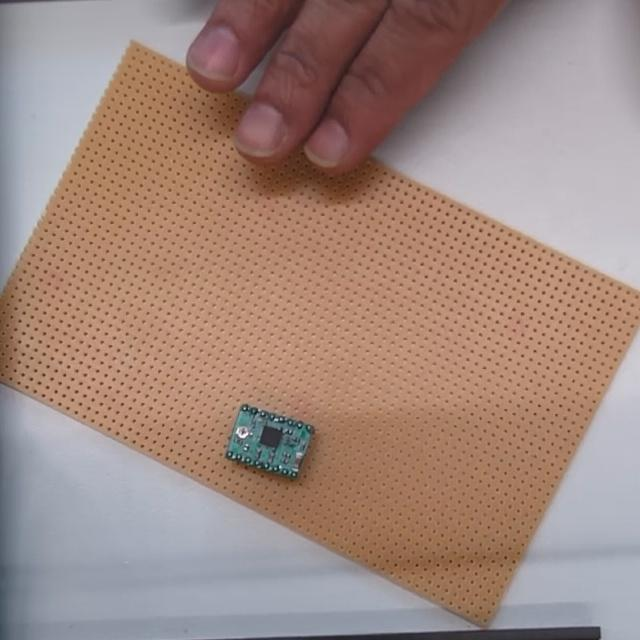Chip: (223, 401, 320, 490)
